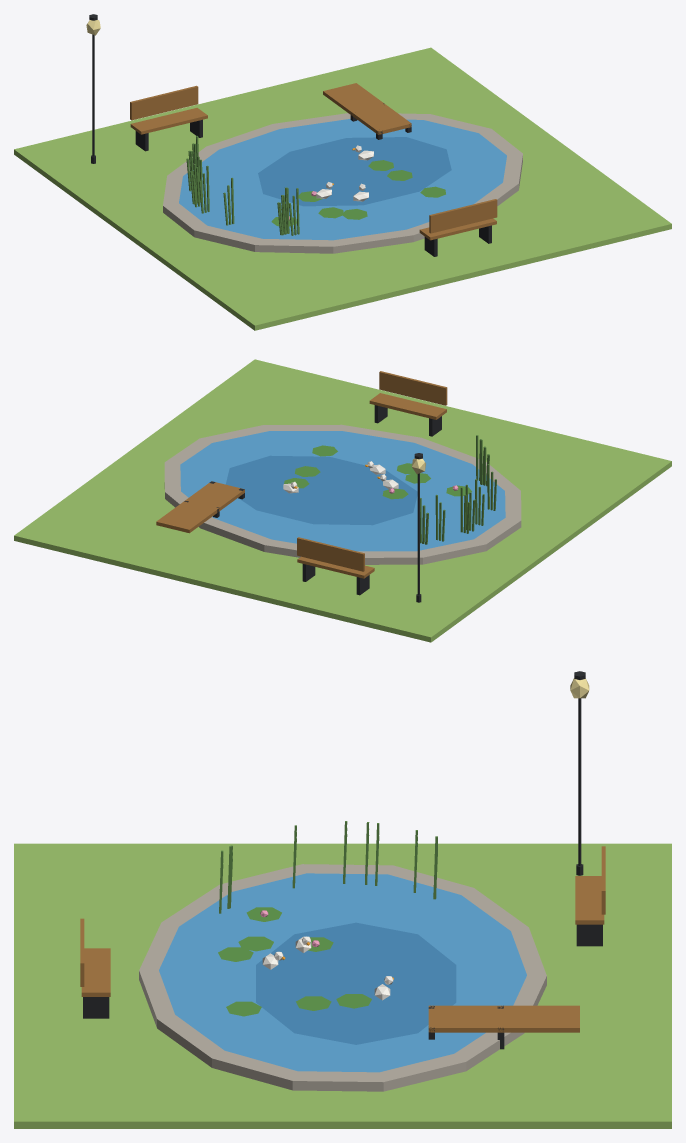
The model's file is Park_gol_Hafif.fbx.
3 renders of one model, top to bottom at view 1: azimuth 30°, elevation 25°; view 2: azimuth 150°, elevation 25°; view 3: azimuth 270°, elevation 25°, orthographic. The views are drawn at different scales.
Visible parts, largest first — view 1: Park_gol_Hafif; view 2: Park_gol_Hafif; view 3: Park_gol_Hafif.
Boxes of the visible parts, left/top/right/bottom form: Park_gol_Hafif: left=14, top=14, right=671, bottom=330; Park_gol_Hafif: left=14, top=359, right=671, bottom=642; Park_gol_Hafif: left=14, top=671, right=671, bottom=1128.
Bounding box in the file's own units: 10 × 3.48 × 10.
